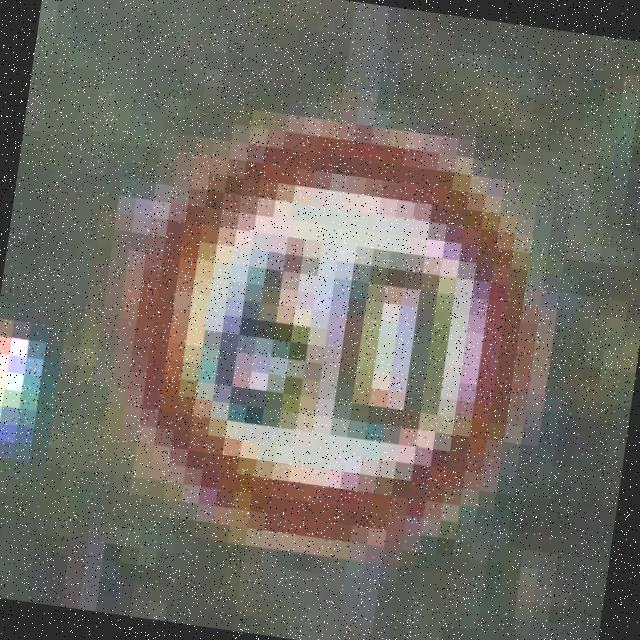Ograniczenie predkosci do 60: (110, 106, 558, 574)
